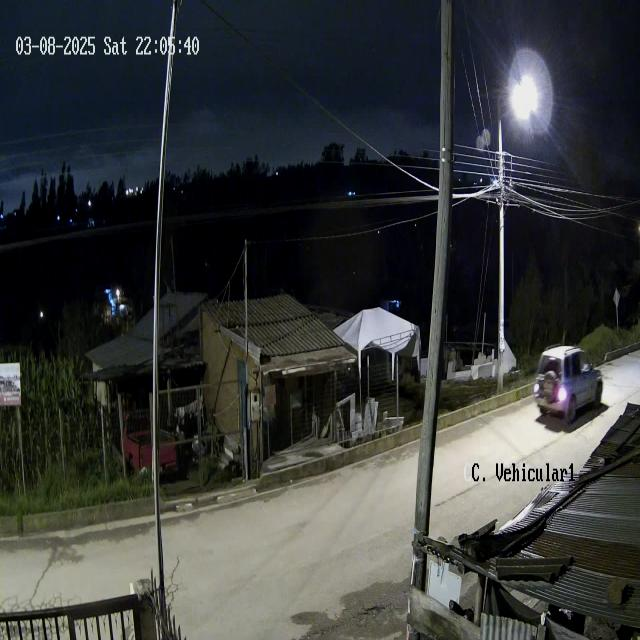SUV: (533, 344, 603, 424)
